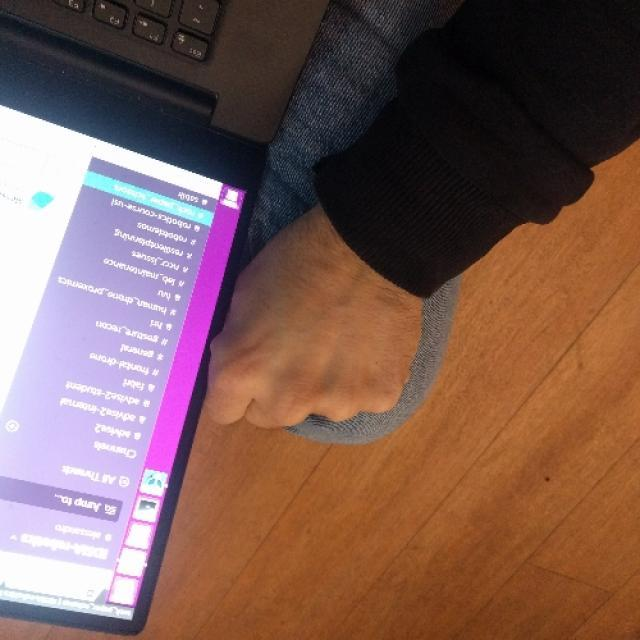fist: (214, 220, 413, 428)
